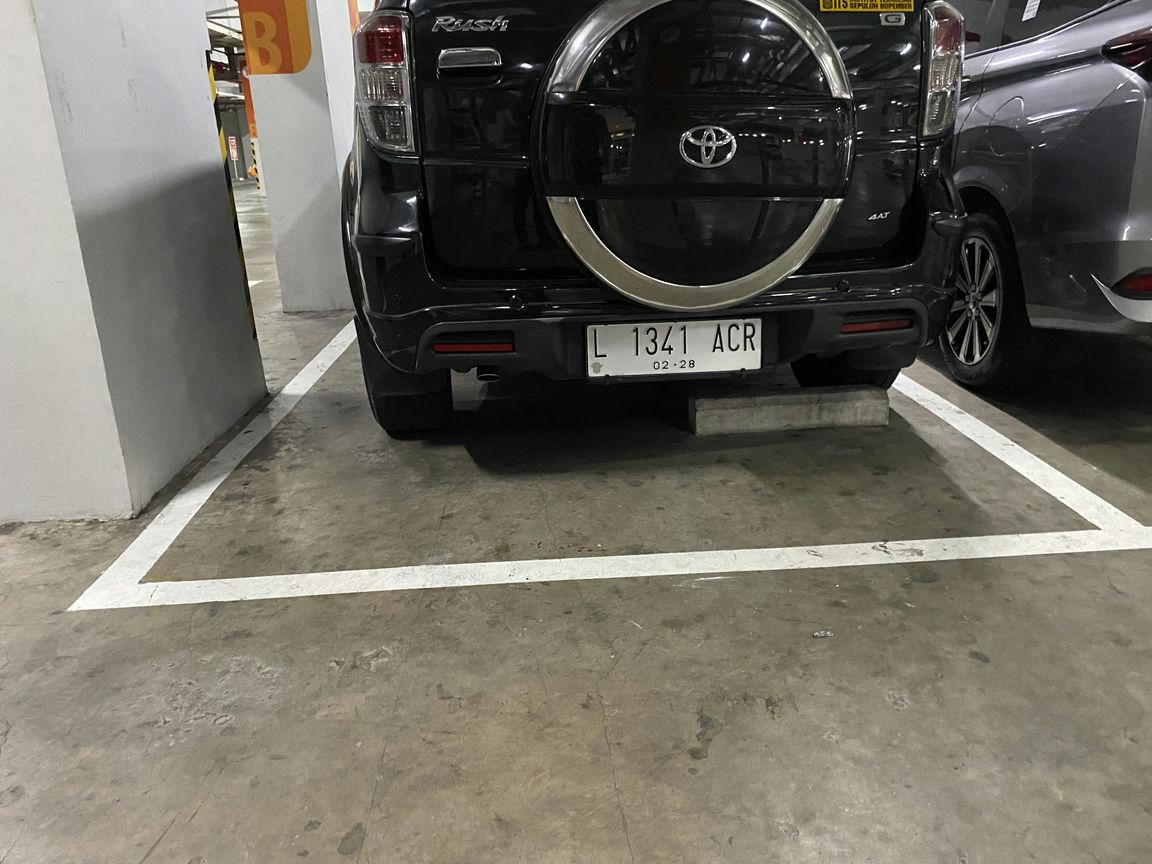plat: (587, 317, 763, 378)
